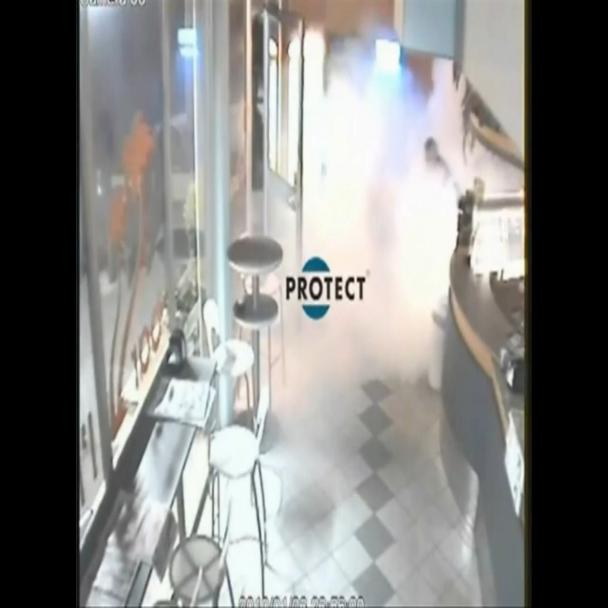smoke: (137, 42, 492, 492)
